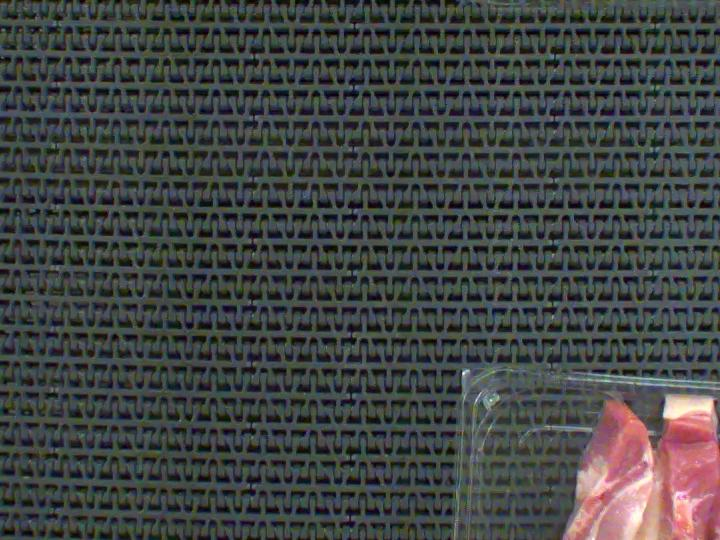twisted-meat: (627, 392, 720, 540)
